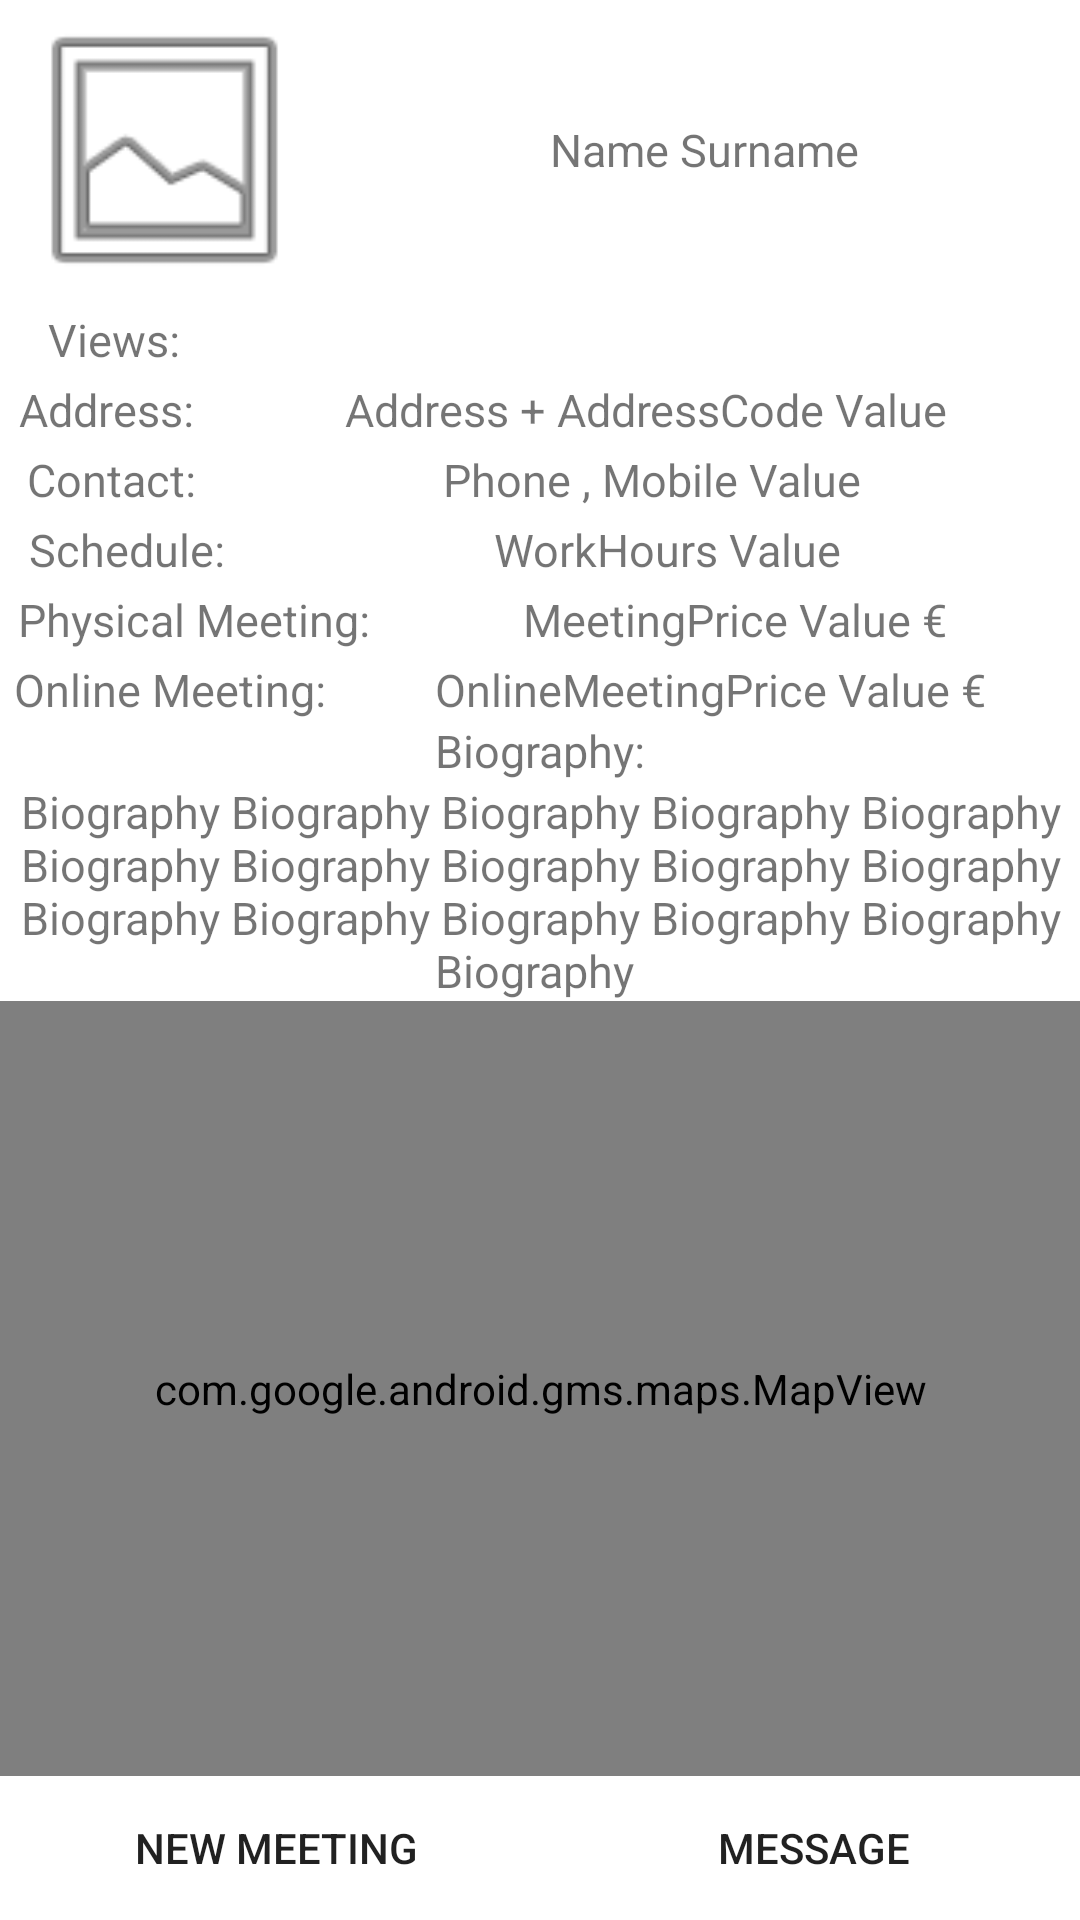

Icon bounding boxes for this 1080×1920 phone screenshot, format (x1, y1, x2, y2):
gallery: (51, 37, 278, 263)
